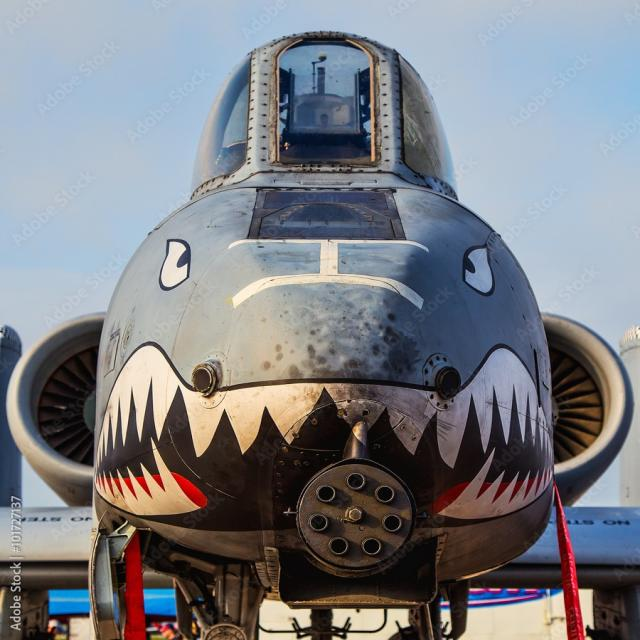A10: (5, 5, 638, 639)
